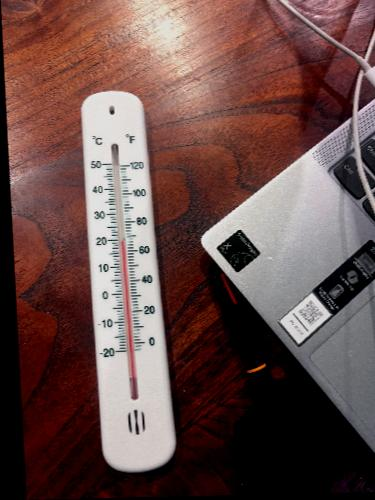thermo: (80, 88, 178, 469)
